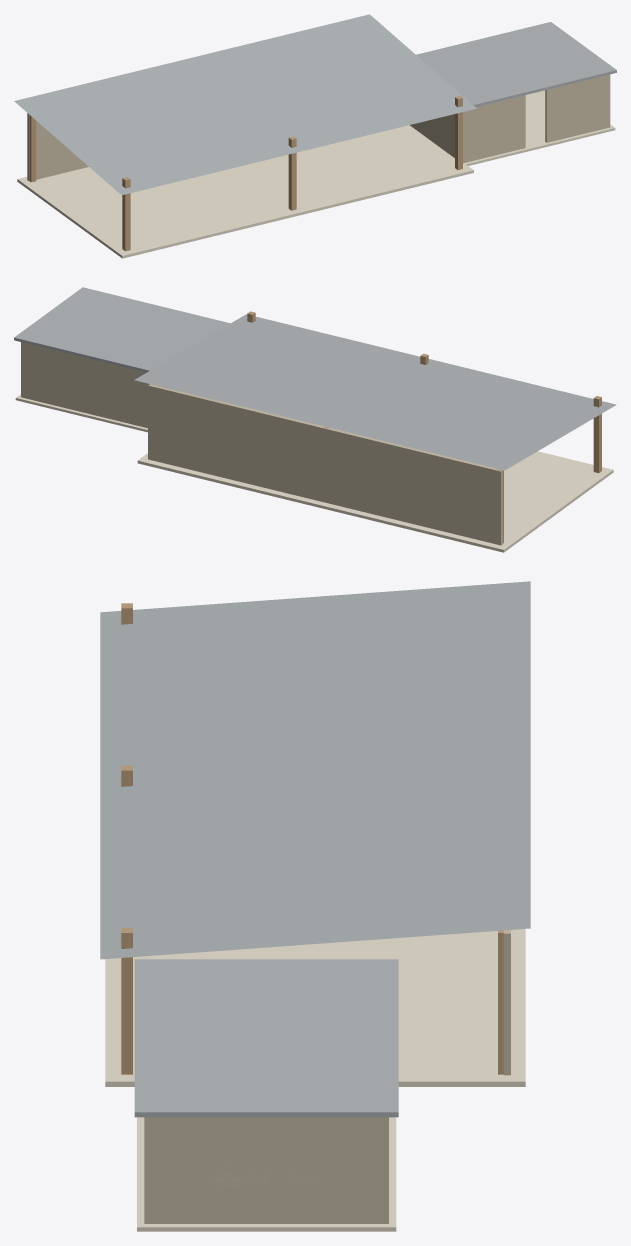
Rendered from agricultural-hub.glb.
3 renders of one model, top to bottom at view 1: azimuth 30°, elevation 25°; view 2: azimuth 150°, elevation 25°; view 3: azimuth 270°, elevation 25°, orthographic. The views are drawn at different scales.
Visible parts, largest first — view 1: standing-seam metal, stone, board and batten, timber; view 2: standing-seam metal, board and batten, stone, timber; view 3: standing-seam metal, stone, board and batten, timber.
Boxes of the visible parts, box(x1,y1,x2,y2) form: standing-seam metal: box(14, 14, 616, 195); stone: box(17, 90, 615, 258); board and batten: box(27, 74, 610, 181); timber: box(29, 96, 462, 251); standing-seam metal: box(14, 287, 616, 470); board and batten: box(21, 342, 502, 545); stone: box(15, 394, 613, 552); timber: box(151, 311, 601, 543); standing-seam metal: box(100, 581, 530, 1117); stone: box(105, 929, 525, 1231); board and batten: box(144, 930, 510, 1223); timber: box(121, 603, 503, 1074).
Size of the model in its own units: 23.8 by 3.62 by 8.8.
